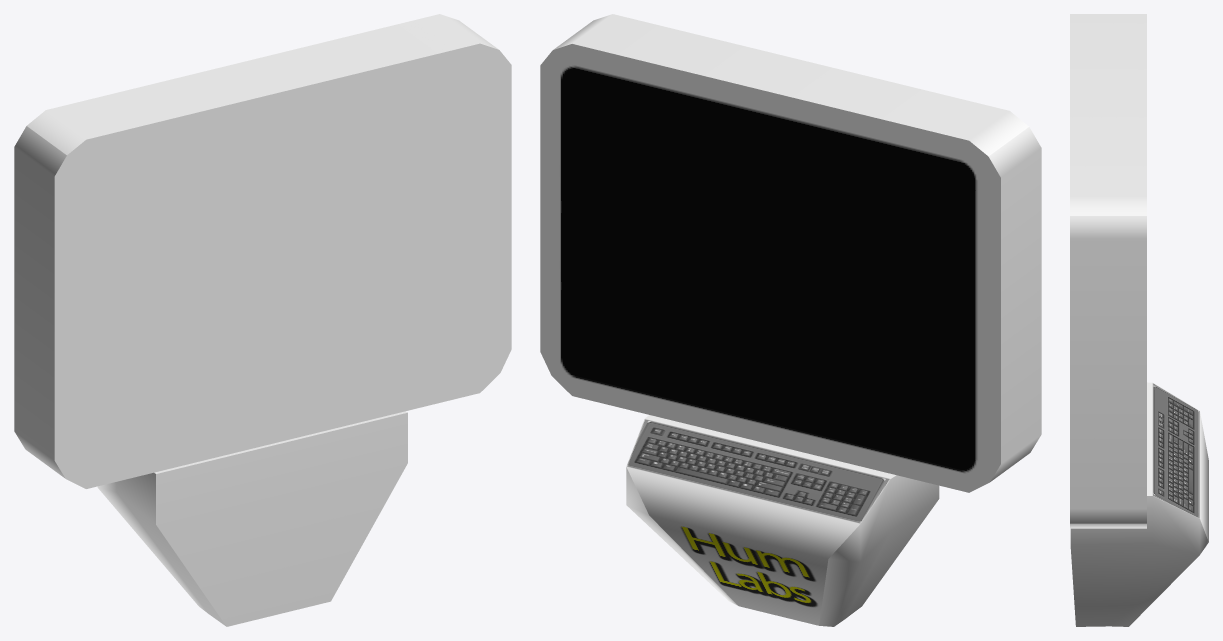
The model's file is screen_with_keyboard.fbx.
3 renders of one model, left to right at view 1: azimuth 30°, elevation 25°; view 2: azimuth 150°, elevation 25°; view 3: azimuth 270°, elevation 25°, orthographic. The views are drawn at different scales.
Parts seen in each view (by area): view 1: monitor_screen, Monitor_base; view 2: monitor_screen, Monitor_base; view 3: monitor_screen, Monitor_base.
Boxes of the visible parts, bbox=[...] form: monitor_screen: bbox=[14, 14, 511, 488]; Monitor_base: bbox=[97, 411, 407, 626]; monitor_screen: bbox=[540, 14, 1041, 492]; Monitor_base: bbox=[626, 415, 939, 626]; monitor_screen: bbox=[1070, 14, 1146, 528]; Monitor_base: bbox=[1070, 382, 1208, 626].
Bounding box in the file's own units: 0.9936 × 1.09 × 0.2749.
